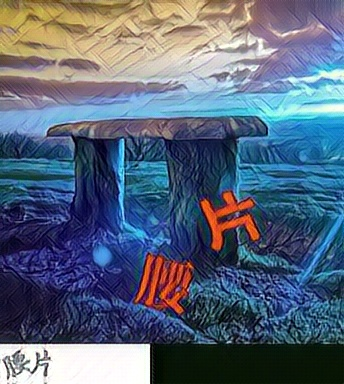C6AC: (198, 186, 261, 253)
D1FC: (134, 248, 197, 315)
